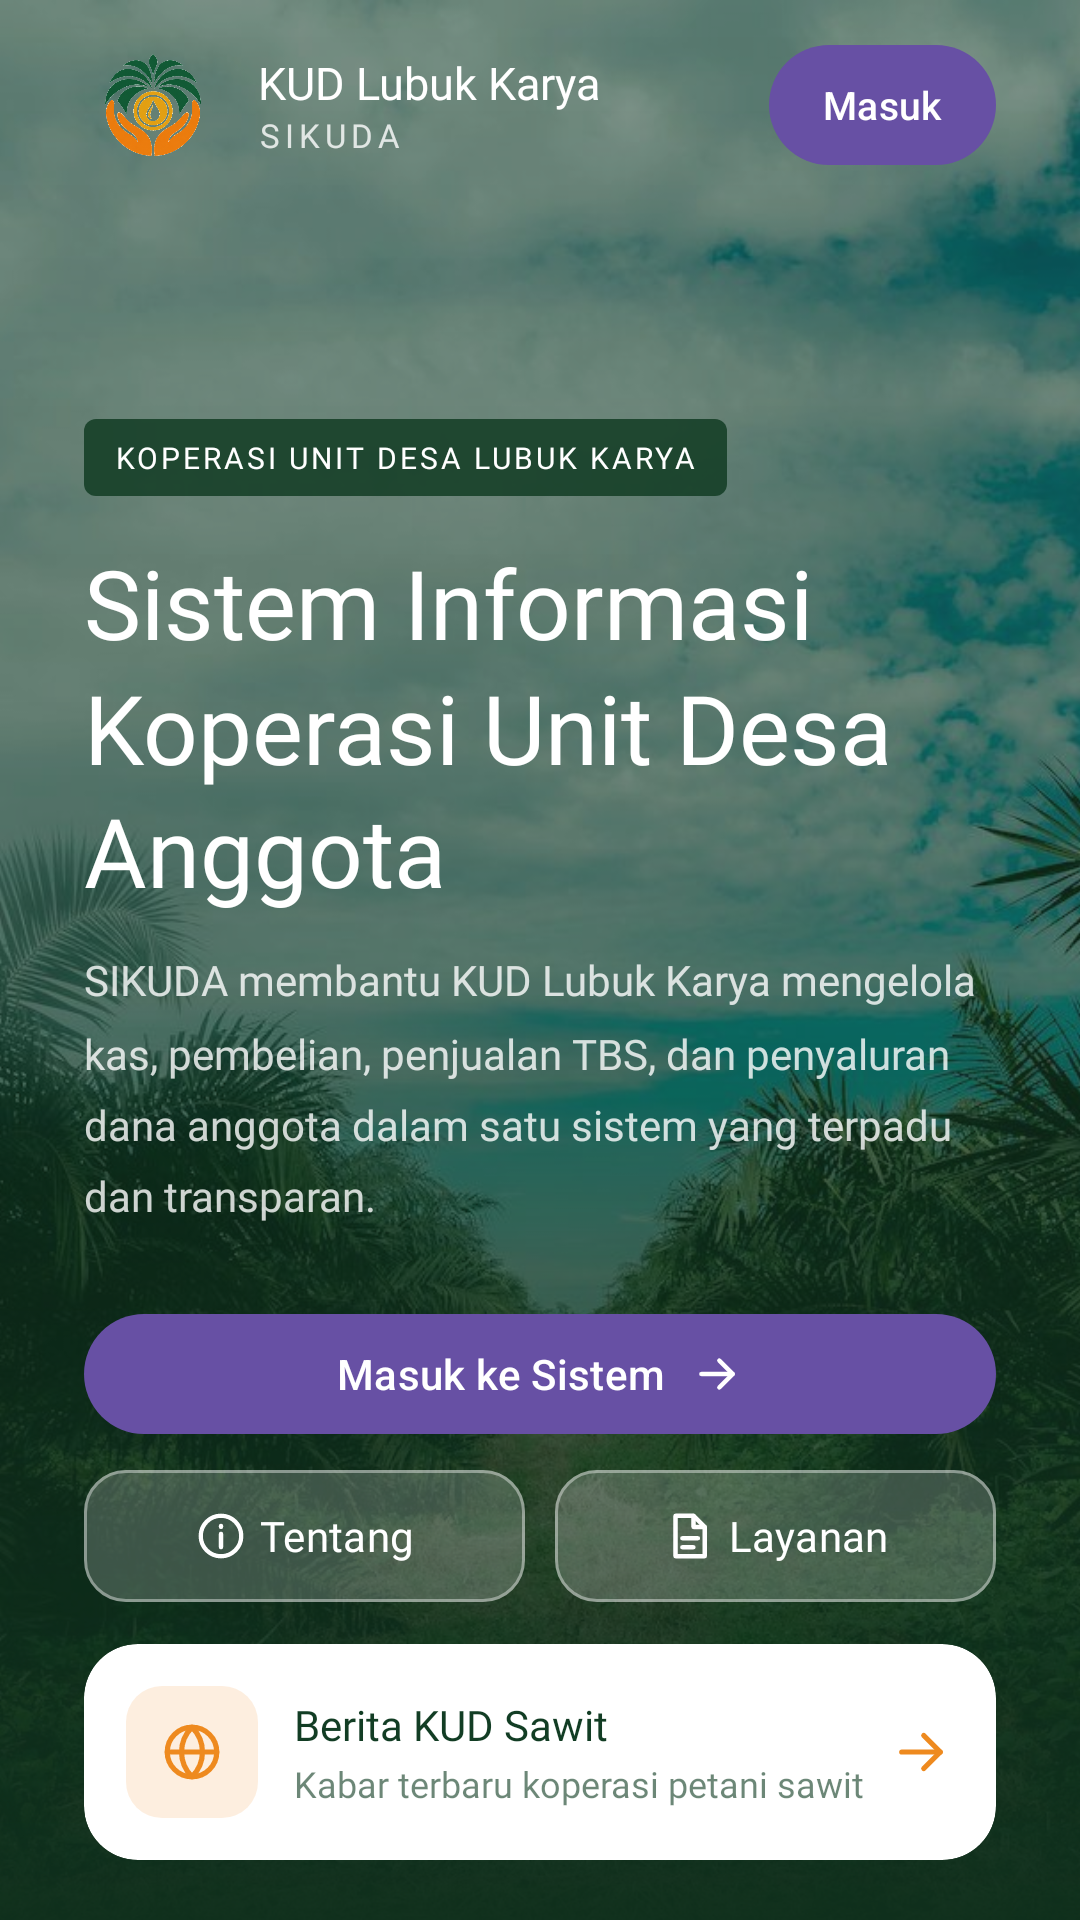

Icons on this 1080×1920 Android screen, each with the point to tap as [x,y]:
web: [192,1752]
